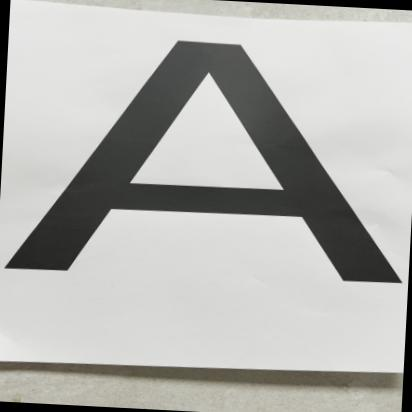seat: (0, 10, 412, 356)
